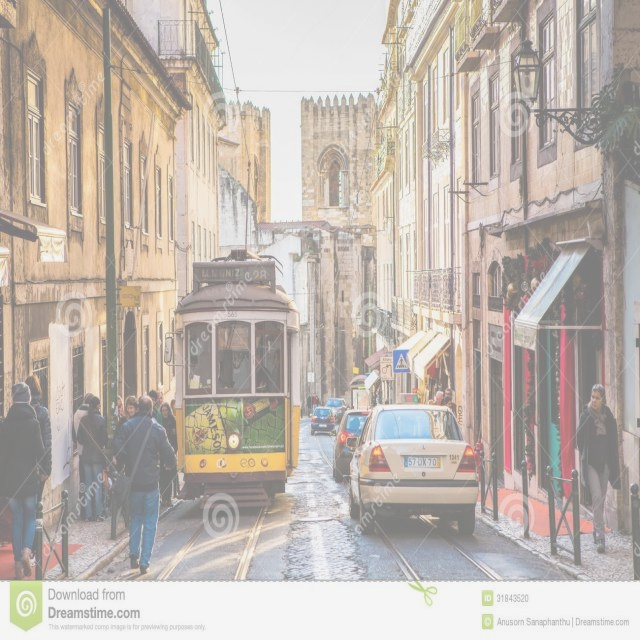pessoa: (114, 394, 178, 574), (0, 380, 47, 580), (574, 381, 622, 553), (17, 372, 54, 566), (76, 395, 106, 523), (128, 393, 158, 504), (72, 392, 93, 520), (242, 344, 282, 394), (189, 349, 219, 396), (158, 402, 178, 454), (118, 394, 140, 434), (432, 384, 456, 416), (148, 388, 164, 426), (116, 392, 124, 420), (306, 392, 312, 418), (312, 392, 318, 417), (170, 398, 177, 416), (157, 390, 165, 404), (384, 396, 392, 408), (368, 402, 376, 410)
